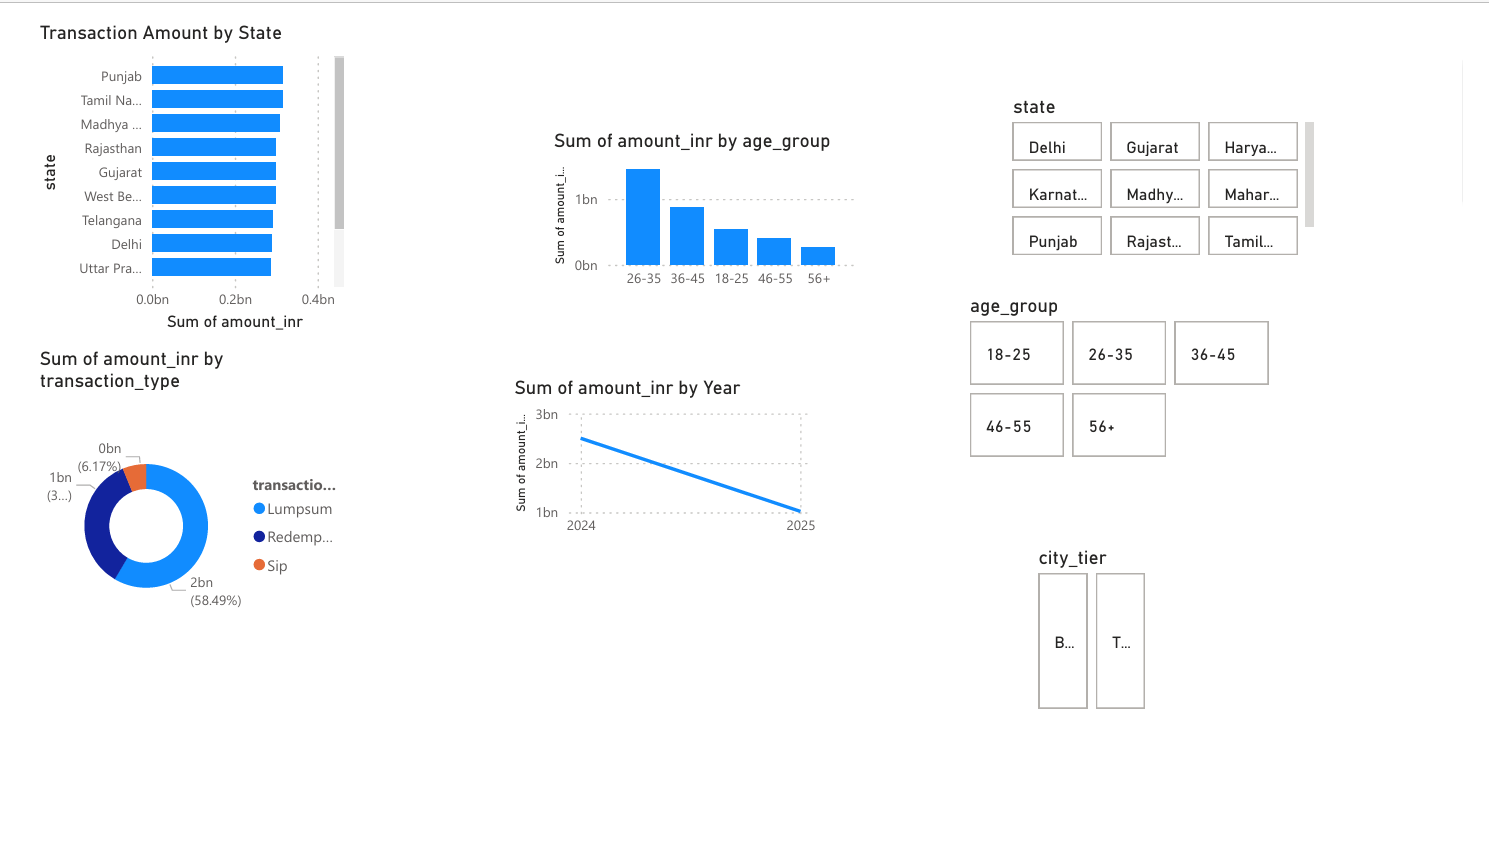

What the dashboard file says about the page in this screenshot:
{"tool":"powerbi","page":{"name":"Investor Analytics","canvas":[1280,720],"ordinal":2},"visuals":[{"type":"clusteredBarChart","title":"Transaction Amount by State","fields":{"Category":["clean_transactions.state"],"Y":["Sum(clean_transactions.amount_inr)"]},"box":[10,0,280,280],"z":0},{"type":"donutChart","fields":{"Category":["clean_transactions.transaction_type"],"Y":["Sum(clean_transactions.amount_inr)"]},"box":[10,290,280,280],"z":1000},{"type":"clusteredColumnChart","fields":{"Category":["clean_transactions.age_group"],"Y":["Sum(clean_transactions.amount_inr)"]},"box":[466.5,96.4,277.6,150.4],"z":2000},{"type":"lineChart","fields":{"Category":["clean_transactions.transaction_date.Variation.Date Hierarchy.Year","clean_transactions.transaction_date.Variation.Date Hierarchy.Quarter","clean_transactions.transaction_date.Variation.Date Hierarchy.Month","clean_transactions.transaction_date.Variation.Date Hierarchy.Day"],"Y":["Sum(clean_transactions.amount_inr)"]},"box":[431.8,316.1,277.6,150.4],"z":3000},{"type":"advancedSlicerVisual","fields":{"Values":["clean_transactions.state"]},"box":[875.2,65.5,277.6,150.4],"z":4000},{"type":"advancedSlicerVisual","fields":{"Values":["clean_transactions.age_group"]},"box":[836.6,242.9,277.6,150.4],"z":5000},{"type":"advancedSlicerVisual","fields":{"Values":["clean_transactions.city_tier"]},"box":[898.3,466.5,154.2,150.4],"z":6000}]}

Visuals, with their boxes in screenshot pixels (x1, y1, x2, y2), scaled from the page's 1280x720 canvas onto the 1489x853 screenshot:
"Transaction Amount by State" clusteredBarChart: crop(12, 0, 337, 332)
donutChart - clean_transactions.transaction_type x Sum(clean_transactions.amount_inr): crop(12, 344, 337, 675)
clusteredColumnChart - clean_transactions.age_group x Sum(clean_transactions.amount_inr): crop(543, 114, 866, 292)
lineChart - clean_transactions.transaction_date.Variation.Date Hierarchy.Year x clean_transactions.transaction_date.Variation.Date Hierarchy.Quarter: crop(502, 374, 825, 553)
advancedSlicerVisual - clean_transactions.state: crop(1018, 78, 1341, 256)
advancedSlicerVisual - clean_transactions.age_group: crop(973, 288, 1296, 466)
advancedSlicerVisual - clean_transactions.city_tier: crop(1045, 553, 1224, 731)
